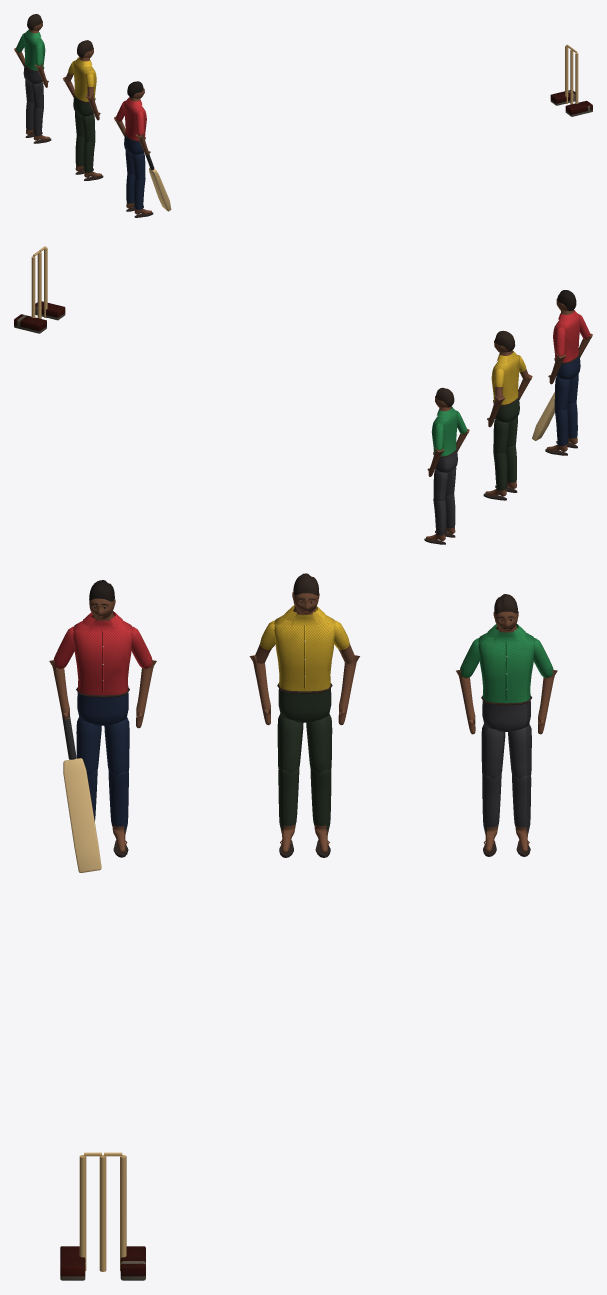
File: kids.glb
The picture shows the model from 3 angles, top to bottom: view 1: azimuth 30°, elevation 25°; view 2: azimuth 150°, elevation 25°; view 3: azimuth 270°, elevation 25°; orthographic projection. The views are drawn at different scales.
Visible parts, largest first — view 1: kid_bowl__cloth_#f2c230, kid_bat__cloth_#d8343a, kid_field__cloth_#2e9a57, stumps__stump_wood, stumps__brick_loose, shin.003, bat_blade, shin.001, shin.005, thigh.003, thigh.001, shin.002 (+2 smaller); view 2: kid_bowl__cloth_#f2c230, kid_bat__cloth_#d8343a, kid_field__cloth_#2e9a57, stumps__stump_wood, stumps__brick_loose, shin.002, shin, shin.004, thigh.002, bat_blade, thigh, shin.003 (+2 smaller); view 3: kid_bowl__cloth_#f2c230, kid_bat__cloth_#d8343a, kid_field__cloth_#2e9a57, bat_blade, stumps__stump_wood, stumps__brick_loose, shin.002, shin.003, shin, thigh.003, thigh.002, thigh (+5 smaller).
Part boxes in pixels (<box>): kid_bowl__cloth_#f2c230: <box>73,57,96,116</box>; kid_bat__cloth_#d8343a: <box>124,97,146,154</box>; kid_field__cloth_#2e9a57: <box>23,29,45,84</box>; stumps__stump_wood: <box>565,44,578,104</box>; stumps__brick_loose: <box>550,90,592,116</box>; shin.003: <box>83,140,101,177</box>; bat_blade: <box>149,167,171,211</box>; shin.001: <box>134,178,151,214</box>; shin.005: <box>33,106,50,140</box>; thigh.003: <box>82,114,95,141</box>; thigh.001: <box>132,153,145,179</box>; shin.002: <box>75,135,84,171</box>; kid_bowl__cloth_#f2c230: <box>491,350,519,422</box>; kid_bat__cloth_#d8343a: <box>553,309,580,379</box>; kid_field__cloth_#2e9a57: <box>431,406,457,472</box>; stumps__stump_wood: <box>31,246,47,318</box>; stumps__brick_loose: <box>14,301,65,333</box>; shin.002: <box>485,450,507,496</box>; shin: <box>546,407,568,451</box>; shin.004: <box>426,498,446,540</box>; thigh.002: <box>493,420,509,453</box>; bat_blade: <box>532,392,554,440</box>; thigh: <box>554,377,570,409</box>; shin.003: <box>506,445,516,488</box>; kid_bowl__cloth_#f2c230: <box>274,605,335,722</box>; kid_bat__cloth_#d8343a: <box>73,611,132,725</box>; kid_field__cloth_#2e9a57: <box>478,624,534,731</box>; bat_blade: <box>63,758,101,872</box>; stumps__stump_wood: <box>79,1152,126,1271</box>; stumps__brick_loose: <box>60,1246,145,1280</box>; shin.002: <box>310,768,331,853</box>; shin.003: <box>278,768,299,853</box>; shin: <box>108,770,128,852</box>; thigh.003: <box>277,713,303,772</box>; thigh.002: <box>306,713,332,772</box>; thigh: <box>104,717,129,774</box>.
Bounding box in the file's own units: 2.1 × 0.595 × 1.01.
23 materials, 9 textured.
